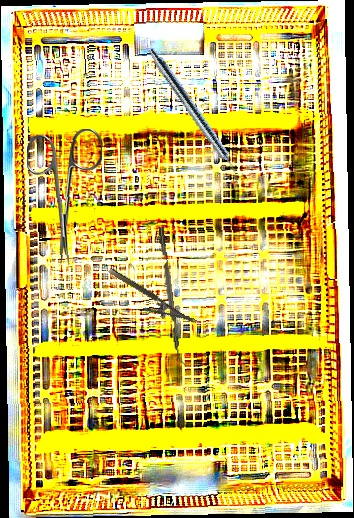Chopper: (158, 225, 188, 368)
Handpiece: (143, 46, 247, 184)
Iris Scissors: (26, 128, 104, 267)
Needle Holder: (101, 266, 198, 338)
